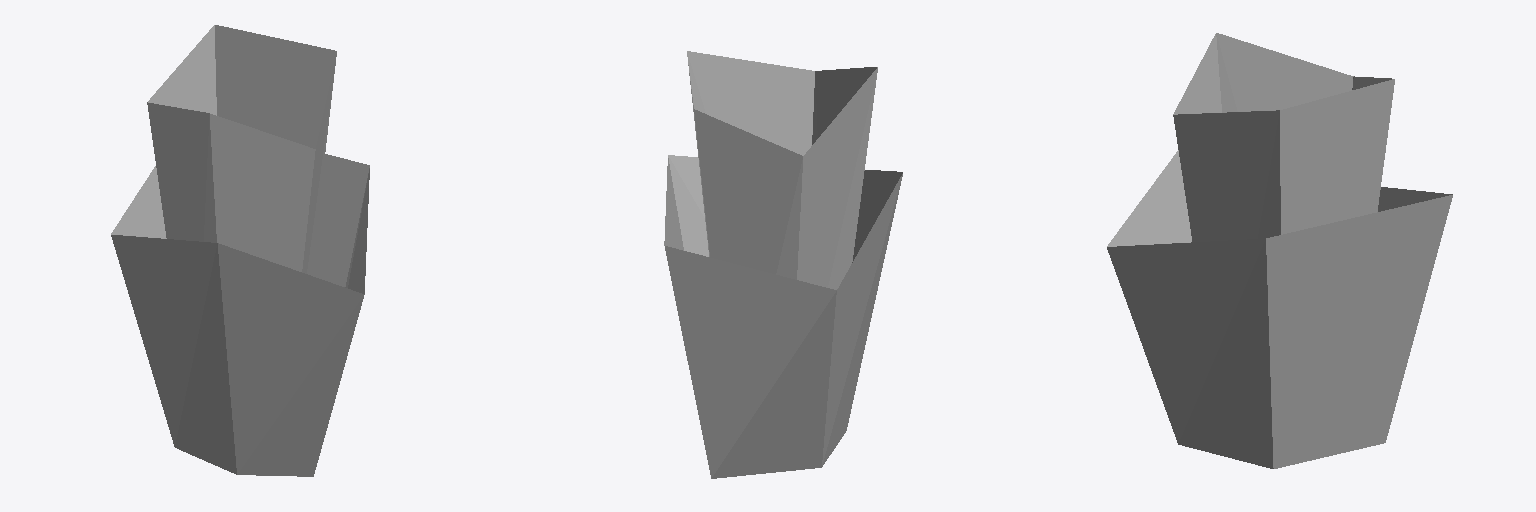
The model's file is wetlandsshrub07.obj.
3 views of the same model, side by side, from view 1: azimuth 30°, elevation 25°; view 2: azimuth 150°, elevation 25°; view 3: azimuth 270°, elevation 25° (orthographic).
Parts seen in each view (by area): view 1: wetlandsshrub07; view 2: wetlandsshrub07; view 3: wetlandsshrub07.
Boxes of the visible parts, box(x1,y1,x2,y2) form: wetlandsshrub07: box(111, 25, 369, 476); wetlandsshrub07: box(664, 51, 902, 478); wetlandsshrub07: box(1107, 33, 1452, 468).
Size of the model in its own units: 2.19 by 3.62 by 3.08.